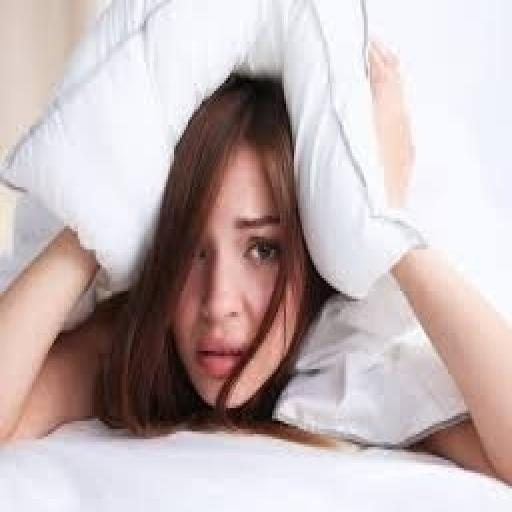sleeping: (0, 36, 510, 496)
